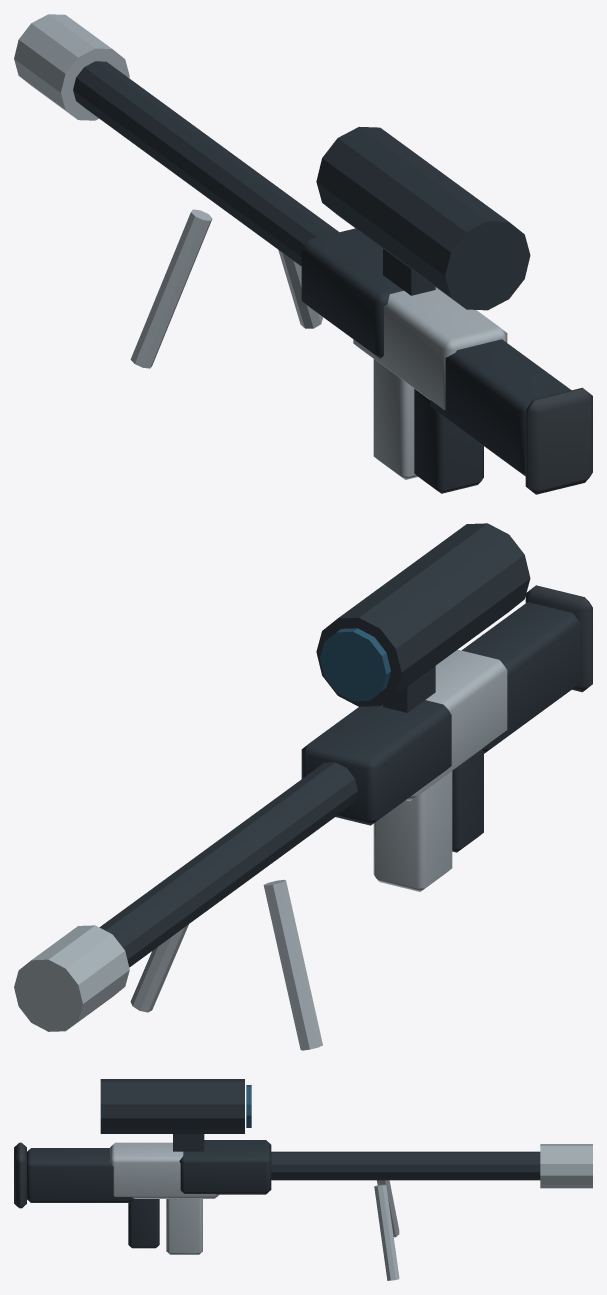
File: sniper.glb
3 views of the same model, one above another, from view 1: azimuth 30°, elevation 25°; view 2: azimuth 150°, elevation 25°; view 3: azimuth 270°, elevation 25° (orthographic). The views are drawn at different scales.
Visible parts, largest first — view 1: sniper_scope, sniper_long_barrel, sniper_stock, sniper_receiver, sniper_handguard, sniper_buttpad, sniper_muzzle_brake, sniper_grip, sniper_magazine, sniper_bipod_left, sniper_bipod_right, sniper_sight; view 2: sniper_scope, sniper_long_barrel, sniper_handguard, sniper_stock, sniper_muzzle_brake, sniper_magazine, sniper_receiver, sniper_bipod_left, sniper_scope_lens, sniper_grip, sniper_buttpad, sniper_bipod_right (+1 smaller); view 3: sniper_long_barrel, sniper_scope, sniper_stock, sniper_handguard, sniper_receiver, sniper_muzzle_brake, sniper_magazine, sniper_grip, sniper_bipod_right, sniper_buttpad, sniper_sight, sniper_bipod_left.
Part boxes in pixels (x1,y1,x2,y2): sniper_scope: (316,126,530,310); sniper_long_barrel: (73,61,338,266); sniper_stock: (430,339,571,476); sniper_receiver: (353,287,507,409); sniper_handguard: (301,228,403,358); sniper_buttpad: (525,387,592,494); sniper_muzzle_brake: (14,14,129,120); sniper_grip: (414,389,483,493); sniper_magazine: (373,359,417,479); sniper_bipod_left: (130,209,212,368); sniper_bipod_right: (278,250,322,328); sniper_sight: (383,248,435,295); sniper_scope: (316,523,530,706); sniper_long_barrel: (99,762,357,967); sniper_handguard: (301,700,451,825); sniper_stock: (461,602,580,753); sniper_muzzle_brake: (14,925,129,1031); sniper_magazine: (373,771,452,891); sniper_receiver: (406,649,507,801); sniper_bipod_left: (263,879,322,1050); sniper_scope_lens: (320,628,390,701); sniper_grip: (452,749,483,852); sniper_buttpad: (525,585,592,692); sniper_bipod_right: (130,924,188,1012); sniper_long_barrel: (271,1151,540,1180); sniper_scope: (100,1079,244,1133); sniper_stock: (27,1148,134,1202); sniper_handguard: (179,1140,271,1194); sniper_receiver: (110,1142,218,1198); sniper_muzzle_brake: (540,1144,592,1188); sniper_magazine: (166,1198,202,1254); sniper_grip: (128,1199,159,1248); sniper_bipod_right: (374,1184,399,1280); sniper_buttpad: (14,1142,26,1208); sniper_sight: (173,1134,204,1151); sniper_bipod_left: (377,1180,399,1237).
Size of the model in its own units: 0.4641 by 0.7439 by 2.21.
